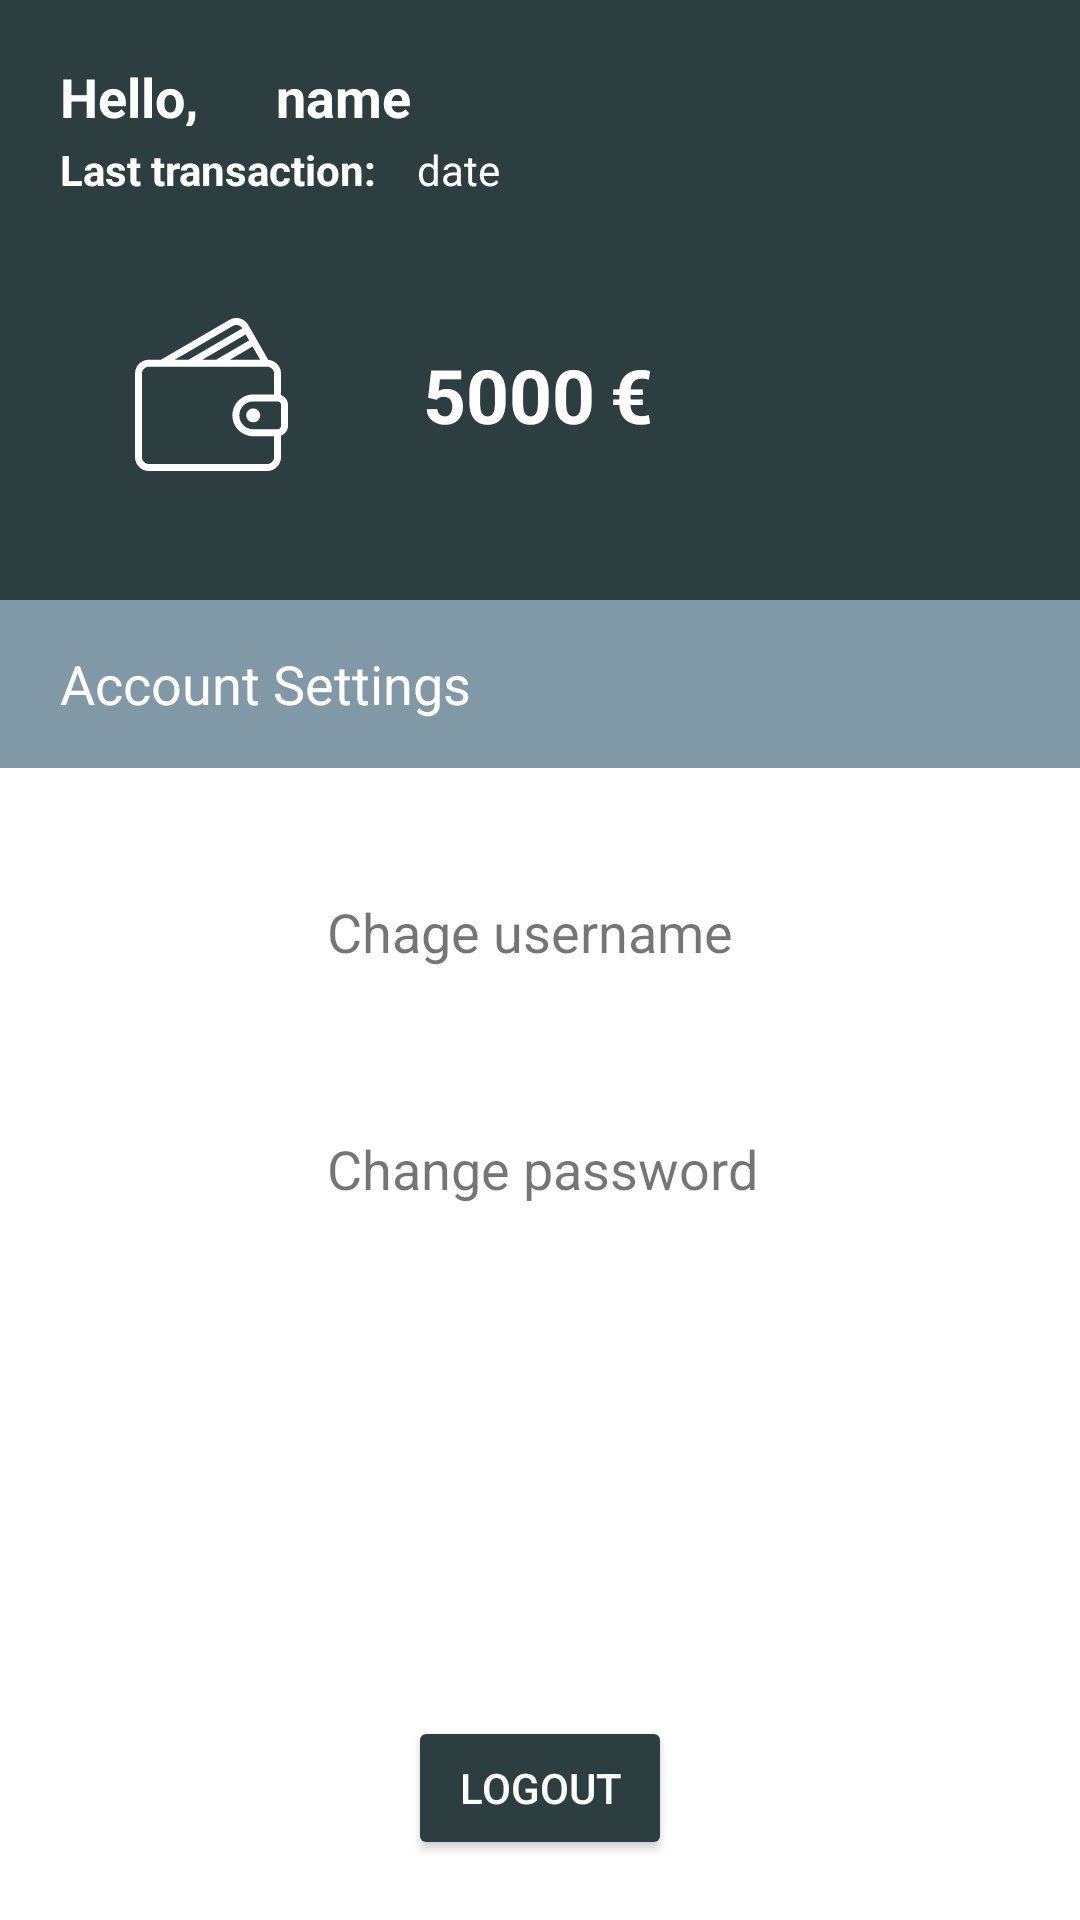

Where icons sit on this 1080 × 1920 app screen, as detection(x1, y1, x2, y2):
wallet: detection(135, 318, 288, 471)
